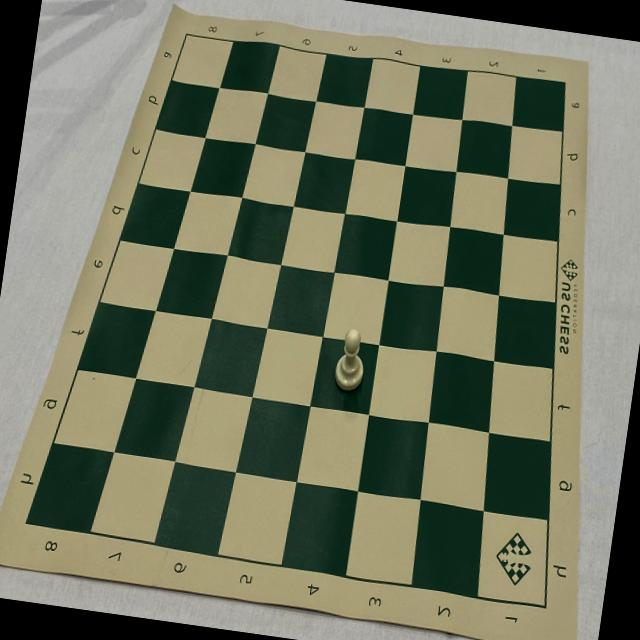white-pawn: (332, 324, 371, 394)
